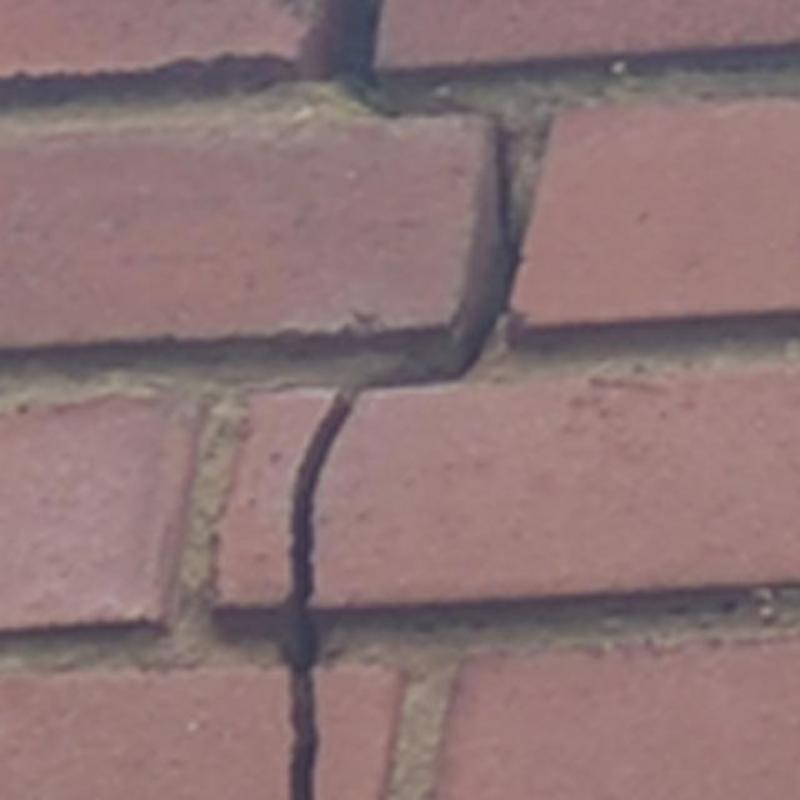pothole: (369, 129, 524, 386), (284, 386, 359, 799), (327, 0, 467, 115)
